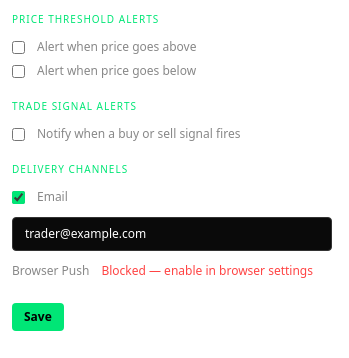
AlertSettings › shows price-below input when toggle is checked
Click the checkbox with test id "price-below-toggle" at (18, 71), box [12, 64, 25, 78]
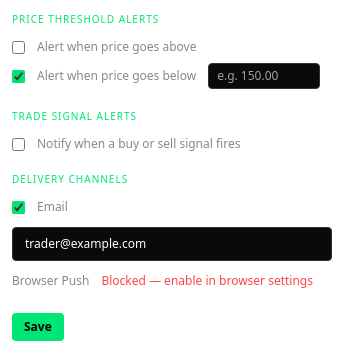
Expected: the number field with test id "price-below-input" is shown, [208, 63, 320, 89]
